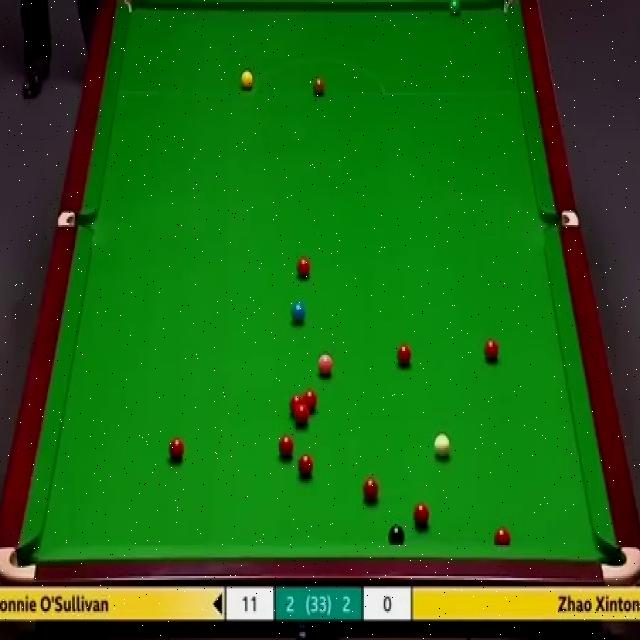black-ball: (386, 524, 404, 547)
blue-ball: (290, 302, 306, 327)
brown-ball: (311, 75, 325, 98)
green-ball: (447, 0, 463, 17)
pink-ball: (317, 350, 333, 377)
red-ball: (396, 341, 414, 371), (296, 453, 314, 482), (168, 436, 186, 464), (362, 477, 379, 505), (412, 503, 429, 530), (278, 433, 294, 460), (484, 337, 499, 363), (296, 258, 312, 282), (303, 390, 318, 415), (494, 526, 511, 546), (289, 394, 303, 415), (295, 407, 309, 427)
white-ball: (433, 432, 451, 461)
yellow-ball: (238, 69, 254, 90)
